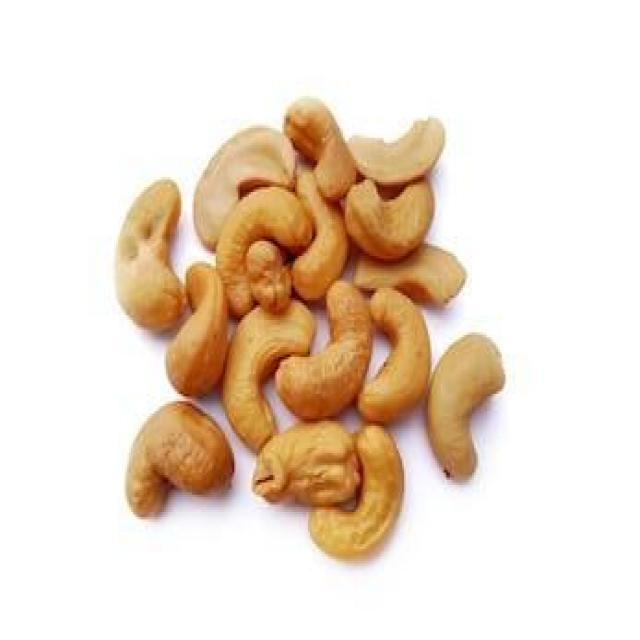Cashew: (90, 167, 193, 349), (120, 403, 226, 534), (432, 332, 515, 483), (228, 306, 302, 446), (358, 99, 482, 180), (187, 102, 295, 190), (356, 179, 459, 256), (308, 306, 375, 414), (256, 431, 350, 506), (366, 302, 425, 411), (301, 86, 348, 208), (396, 248, 482, 302), (298, 224, 363, 294), (238, 184, 298, 245)
